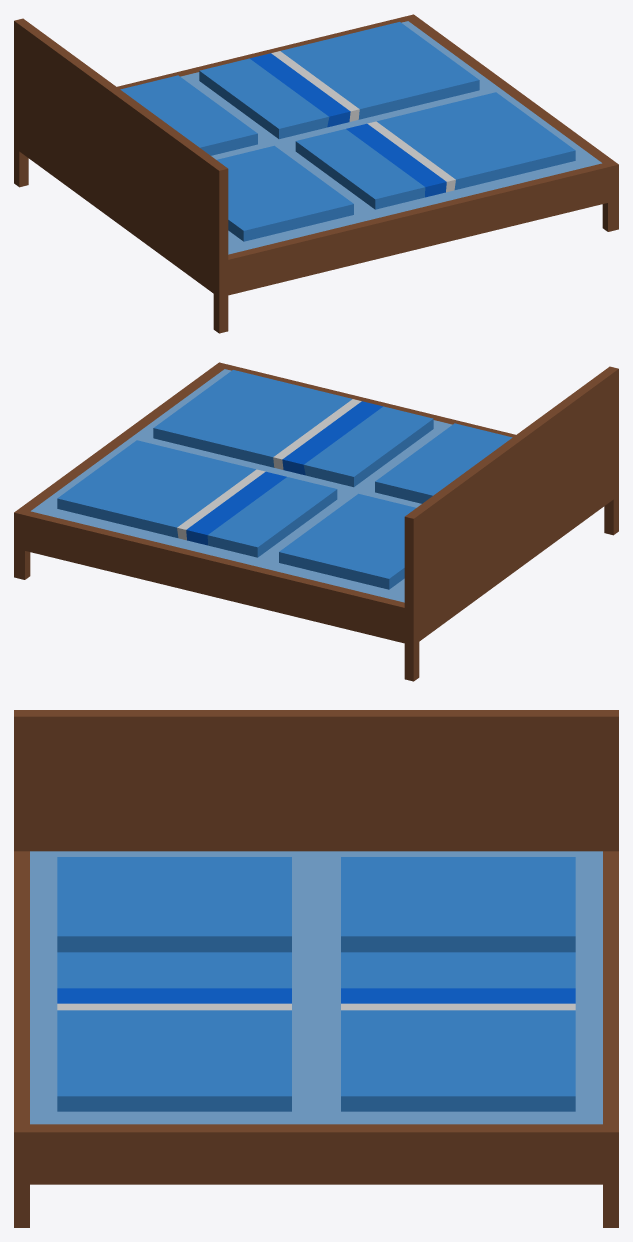
The model's file is Doppelbett.fbx.
3 renders of one model, top to bottom at view 1: azimuth 30°, elevation 25°; view 2: azimuth 150°, elevation 25°; view 3: azimuth 270°, elevation 25°, orthographic. The views are drawn at different scales.
Parts seen in each view (by area): view 1: Cube; view 2: Cube; view 3: Cube.
Boxes of the visible parts, x1,y1,x2,y2 form: Cube: (14,14,618,333); Cube: (14,362,618,681); Cube: (14,710,618,1227).
Size of the model in its own units: 180 by 70 by 160.
